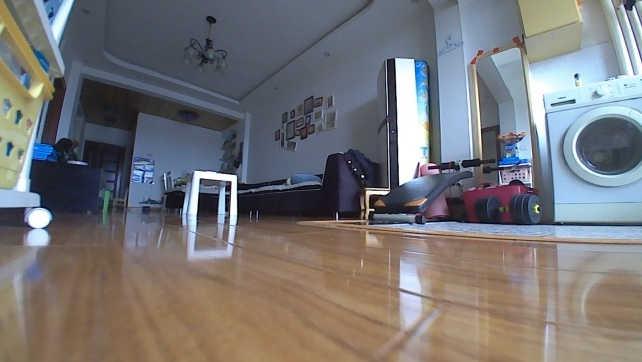sofa: (160, 148, 383, 220)
washing_machine: (540, 72, 641, 228)
